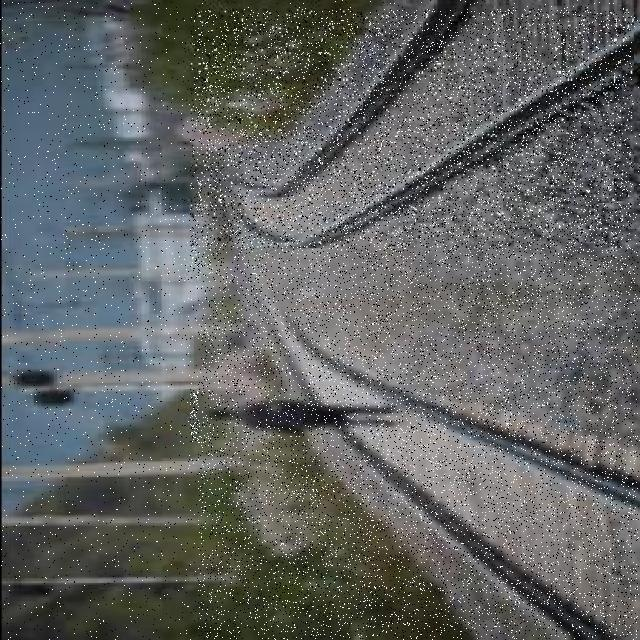danger: (190, 390, 422, 442)
rail: (198, 249, 638, 639), (190, 9, 632, 277)
